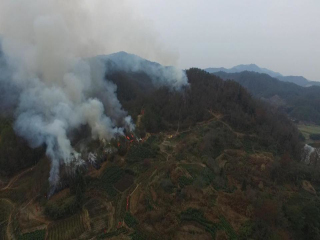smoke: (5, 16, 189, 183)
